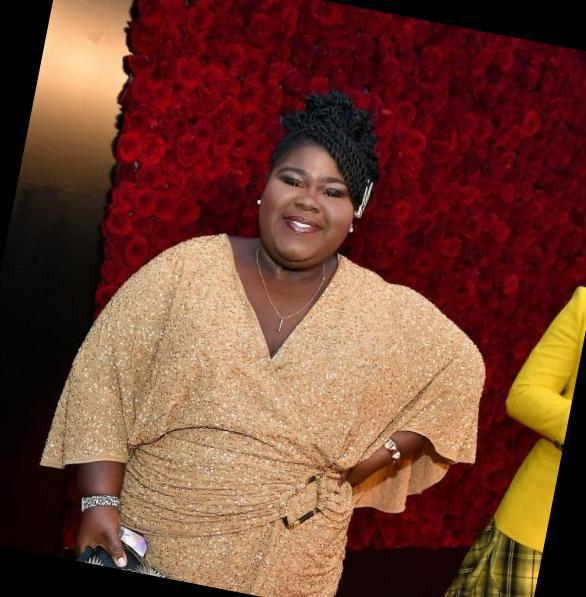Sober: (264, 152, 353, 249)
